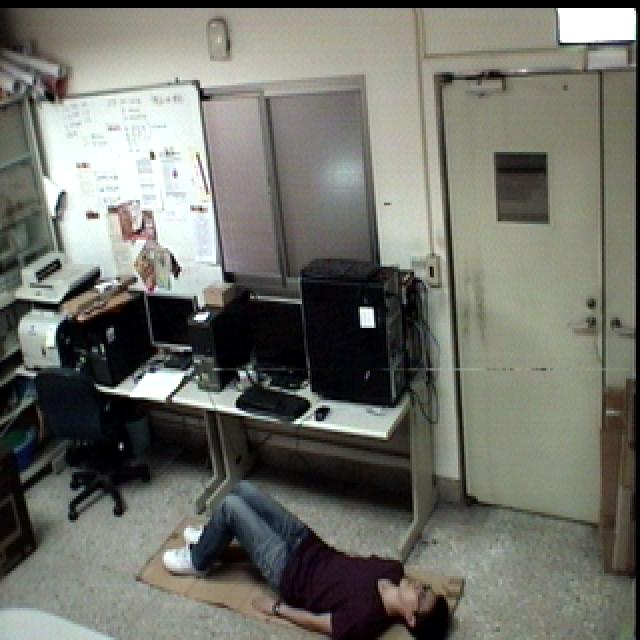lie: (160, 465, 458, 640)
